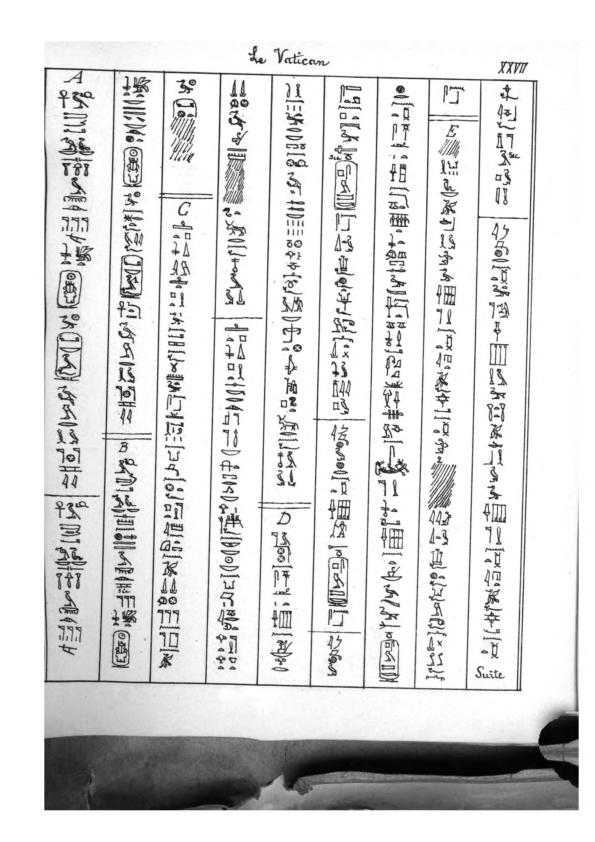circle: (331, 159, 361, 212), (54, 331, 84, 383), (325, 554, 353, 608), (117, 252, 145, 302), (56, 267, 84, 310), (377, 639, 402, 684), (121, 145, 144, 189), (110, 629, 134, 671)
